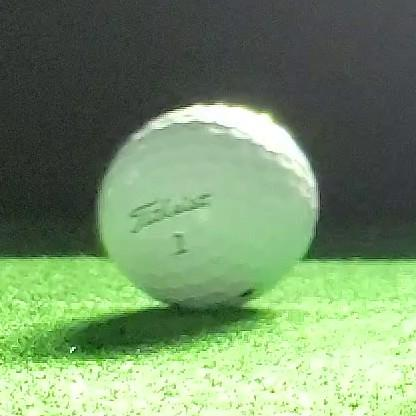golfball: (99, 104, 317, 309)
